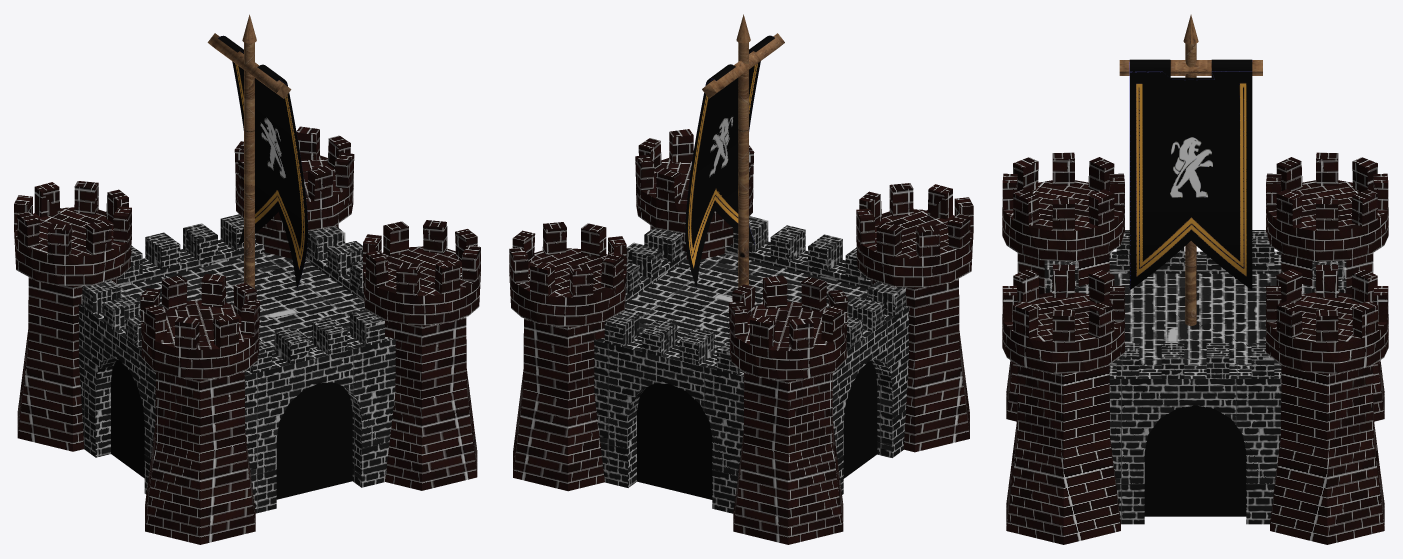
The model's file is castle.gltf.
3 renders of one model, left to right at view 1: azimuth 30°, elevation 25°; view 2: azimuth 150°, elevation 25°; view 3: azimuth 270°, elevation 25°, orthographic. The views are drawn at different scales.
Parts seen in each view (by area): view 1: base, object_3.006, object_3.007, object_19, object_3.000, Plane.002, object_3.008, object_111.002, Plane.003, object_3.002; view 2: base, object_3.008, object_3.007, object_19, object_3.000, Plane.004, object_3.006, object_111.002, Plane.003, object_3.002; view 3: base, object_3.000, object_3.002, object_19, Plane, object_3.007, object_111.002, object_3.006, object_3.008.
Part boxes in pixels (bbox=[...]): base: bbox=[14, 126, 480, 544]; object_3.006: bbox=[244, 309, 395, 513]; object_3.007: bbox=[78, 280, 155, 494]; object_19: bbox=[121, 252, 364, 352]; object_3.000: bbox=[218, 35, 308, 289]; Plane.002: bbox=[276, 382, 352, 499]; object_3.008: bbox=[117, 214, 264, 286]; object_111.002: bbox=[207, 14, 291, 288]; Plane.003: bbox=[111, 359, 144, 478]; object_3.002: bbox=[305, 226, 364, 302]; base: bbox=[509, 129, 973, 544]; object_3.008: bbox=[594, 311, 743, 513]; object_3.007: bbox=[832, 281, 909, 494]; object_19: bbox=[624, 254, 866, 354]; object_3.000: bbox=[685, 35, 774, 287]; Plane.004: bbox=[637, 383, 712, 499]; object_3.006: bbox=[724, 216, 870, 288]; object_111.002: bbox=[702, 14, 784, 287]; Plane.003: bbox=[843, 361, 877, 478]; object_3.002: bbox=[625, 228, 686, 303]; base: bbox=[1002, 152, 1388, 544]; object_3.000: bbox=[1129, 59, 1252, 289]; object_3.002: bbox=[1109, 343, 1281, 524]; object_19: bbox=[1078, 273, 1312, 364]; Plane: bbox=[1144, 405, 1246, 516]; object_3.007: bbox=[1109, 230, 1281, 273]; object_111.002: bbox=[1119, 14, 1262, 325]; object_3.006: bbox=[1044, 260, 1078, 293]; object_3.008: bbox=[1312, 260, 1346, 293].
Size of the model in its own units: 141 by 175 by 137.
Materials: 7 (5 with a texture image).
